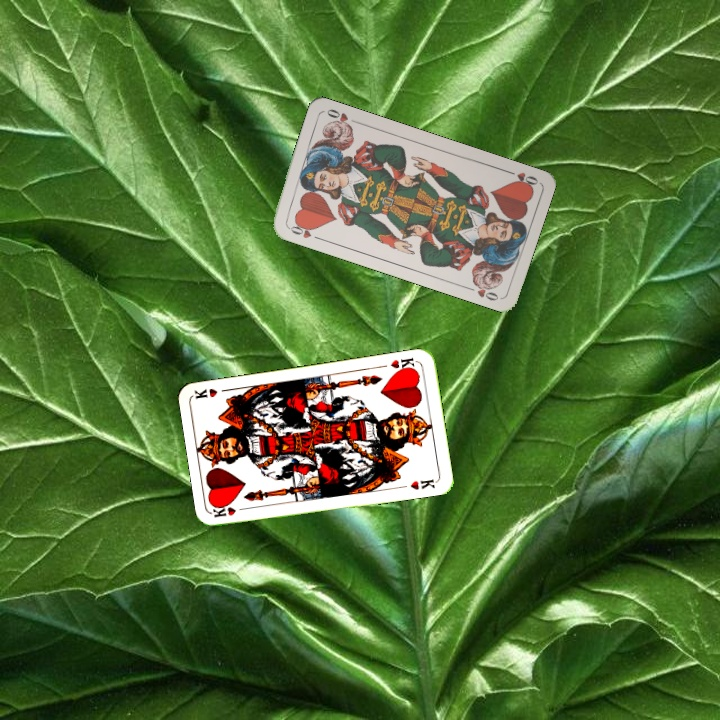HK: (210, 503, 251, 520), (387, 354, 419, 375)
HO: (501, 166, 541, 190), (284, 218, 323, 242)
